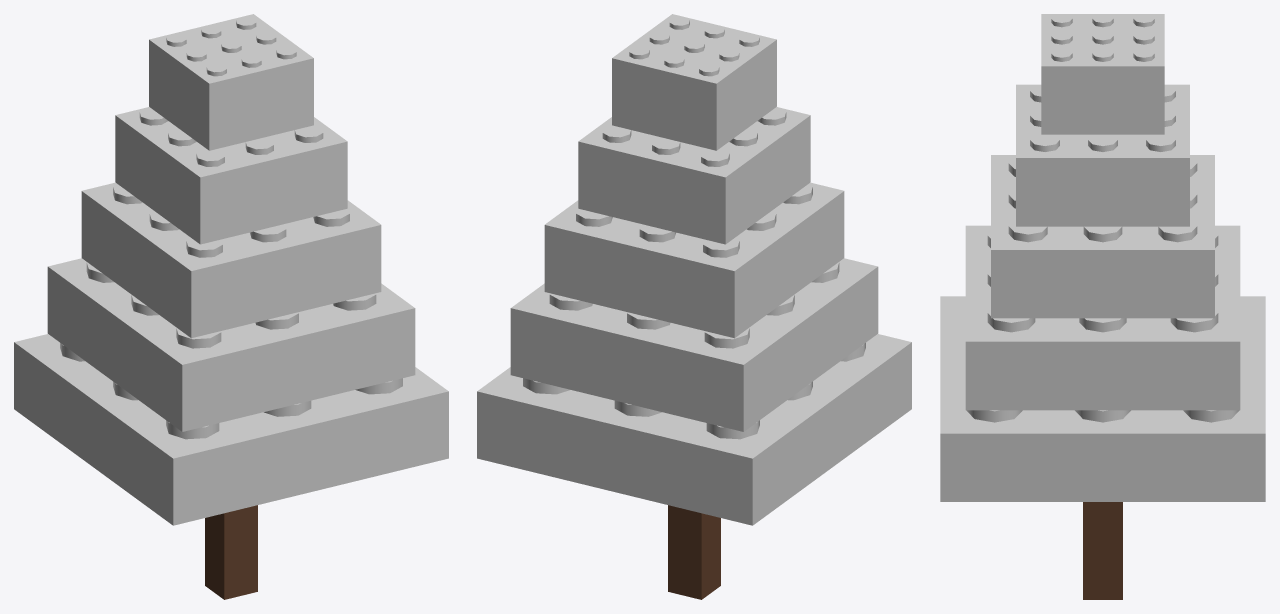
File: LegoPine.glb
3 views of the same model, side by side, from view 1: azimuth 30°, elevation 25°; view 2: azimuth 150°, elevation 25°; view 3: azimuth 270°, elevation 25° (orthographic). The views are drawn at different scales.
Parts seen in each view (by area): view 1: LegoPine; view 2: LegoPine; view 3: LegoPine.
Part boxes in pixels (x1,y1,x2,y2): LegoPine: (14, 14, 448, 599); LegoPine: (477, 14, 911, 599); LegoPine: (940, 14, 1265, 599).
Bounding box in the file's own units: 4.9 × 9.24 × 4.9.
